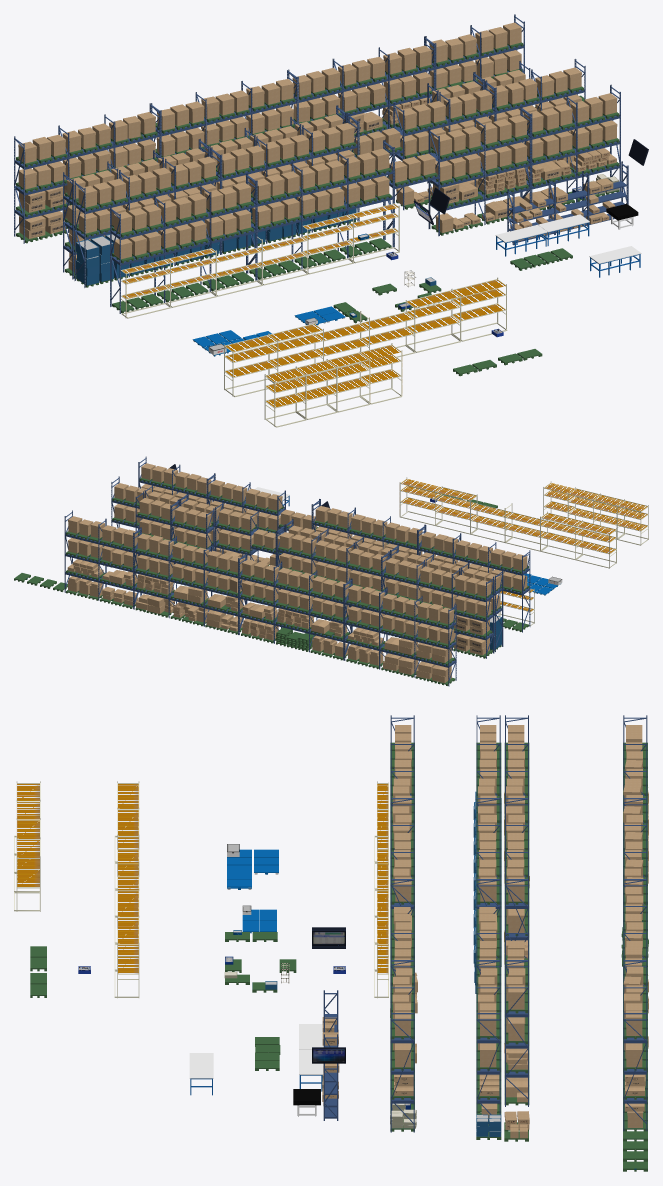
The model's file is LingJianCangKu01.FBX.
3 views of the same model, one above another, from view 1: azimuth 30°, elevation 25°; view 2: azimuth 150°, elevation 25°; view 3: azimuth 270°, elevation 25° (orthographic). The views are drawn at different scales.
Visible parts, largest first — view 1: YF_Model_ZhiXiang184, YF_Model_ZhiXiang181, YF_Model_ZhiXiang182, YF_Model_HuoJia022, YF_Model_ChuWuHeTaiZi029, YF_Model_HuoJia018, YF_Model_HuoJia1, YF_Model_HuoJia025, YF_Model_HuoJia019, YF_Model_HuoJia023, YF_Model_ZhiXiang183, YF_Model_ChuWuHeTaiZi428 (+9 smaller); view 2: YF_Model_ZhiXiang184, YF_Model_LT_ZhiXiang_001, YF_Model_ZhiXiang183, YF_Model_ZhiXiang181, YF_Model_HuoJia025, YF_Model_ChuWuHeTaiZi428, YF_Model_HuoJia018, YF_Model_ZhiXiang182, YF_Model_HuoJia024, YF_Model_HuoJia019, YF_Model_HuoJia022, YF_Model_ChuWuHeTaiZi526 (+5 smaller); view 3: YF_Model_ZhiXiang184, YF_Model_ZhiXiang182, YF_Model_ZhiXiang181, YF_Model_ZhiXiang183, YF_Model_HuoJia018, YF_Model_ChuWuHeTaiZi157, YF_Model_HuoJia022, YF_Model_HuoJia023, YF_Model_ChuWuHeTaiZi428, YF_Model_HuoJia019, YF_Model_HuoJia025, YF_Model_ChuWuHeTaiZi029 (+8 smaller).
Part boxes in pixels (x1,y1,x2,y2): YF_Model_ZhiXiang184: (18,22,521,189); YF_Model_ZhiXiang181: (113,93,617,259); YF_Model_ZhiXiang182: (78,67,581,233); YF_Model_HuoJia022: (110,84,620,313); YF_Model_ChuWuHeTaiZi029: (112,112,619,313); YF_Model_HuoJia018: (224,277,507,396); YF_Model_HuoJia1: (121,203,399,318); YF_Model_HuoJia025: (14,14,524,243); YF_Model_HuoJia019: (264,343,402,427); YF_Model_HuoJia023: (74,59,585,287); YF_Model_ZhiXiang183: (67,70,525,224); YF_Model_ChuWuHeTaiZi428: (16,42,523,243); YF_Model_ZhiXiang184: (68,516,454,665); YF_Model_LT_ZhiXiang_001: (67,559,451,683); YF_Model_ZhiXiang183: (139,498,491,616); YF_Model_ZhiXiang181: (141,463,527,590); YF_Model_HuoJia025: (64,510,456,686); YF_Model_ChuWuHeTaiZi428: (66,531,455,685); YF_Model_HuoJia018: (399,477,616,568); YF_Model_ZhiXiang182: (114,483,500,610); YF_Model_HuoJia024: (135,491,494,658); YF_Model_HuoJia019: (543,481,648,545); YF_Model_HuoJia022: (138,456,530,632); YF_Model_ChuWuHeTaiZi526: (137,512,492,658); YF_Model_ZhiXiang184: (623,725,643,1127); YF_Model_ZhiXiang182: (478,725,497,1118); YF_Model_ZhiXiang181: (392,725,412,1067); YF_Model_ZhiXiang183: (506,725,525,1040); YF_Model_HuoJia018: (114,781,139,998); YF_Model_ChuWuHeTaiZi157: (476,742,501,1125); YF_Model_HuoJia022: (390,715,414,1132); YF_Model_HuoJia023: (476,715,500,1114); YF_Model_ChuWuHeTaiZi428: (621,742,648,1131); YF_Model_HuoJia019: (14,781,40,911); YF_Model_HuoJia025: (623,715,647,1131); YF_Model_ChuWuHeTaiZi029: (390,742,414,1131).
Bounding box in the file's own units: 3486 × 588 × 2791.
